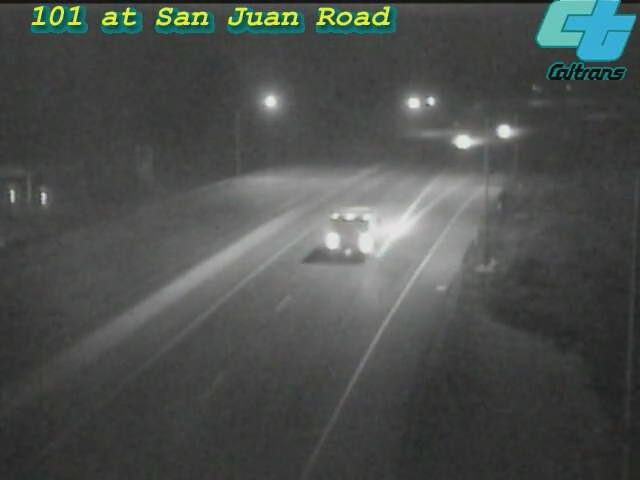vehicle: (314, 197, 394, 277), (476, 107, 526, 157), (440, 116, 490, 166)
